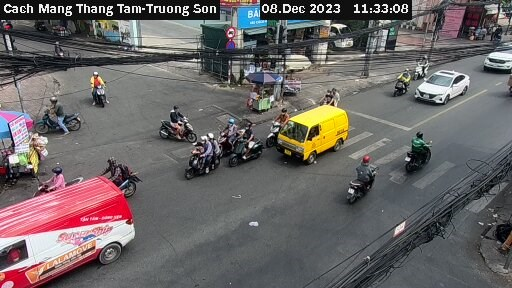car: (1, 180, 141, 288), (273, 103, 352, 163), (413, 65, 474, 109), (480, 37, 512, 77)
motorbike: (342, 149, 394, 202), (37, 92, 95, 136), (79, 71, 135, 114), (179, 140, 234, 180), (397, 128, 442, 174), (95, 151, 143, 193), (162, 108, 203, 142), (231, 131, 267, 165), (388, 64, 417, 98), (215, 123, 242, 152), (263, 110, 289, 140), (411, 51, 438, 77)
